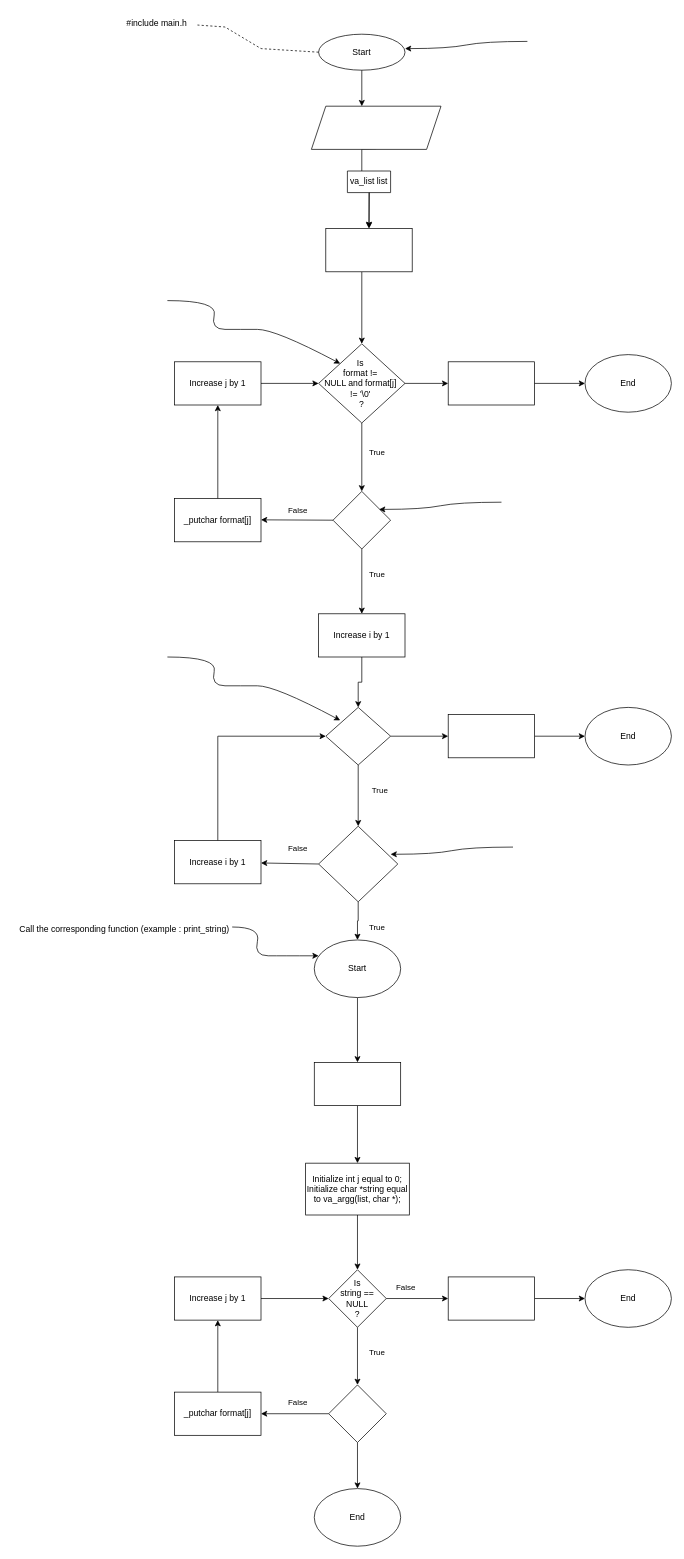
This 684x1559 diagram has some shape labels left out. The shapes that lost their labels are listed below. From the top down, each one's box as (x1, y1, x2, y2) in pixels, then its label:
(311, 105, 441, 149): Input: const char *format
(325, 228, 412, 272): Initialize int i and j equal to 0; spe_t sps[];
(332, 491, 391, 549): Is format[j] == '%' ?
(325, 707, 391, 765): Is sps[i].spe != '\0' ?
(318, 825, 398, 902): Is format [j] == sps[i].spe ?
(314, 1062, 401, 1106): Input: va_list list
(447, 1276, 535, 1320): _putchar(...)
(328, 1384, 386, 1443): Is string[j] != '\0' ?
